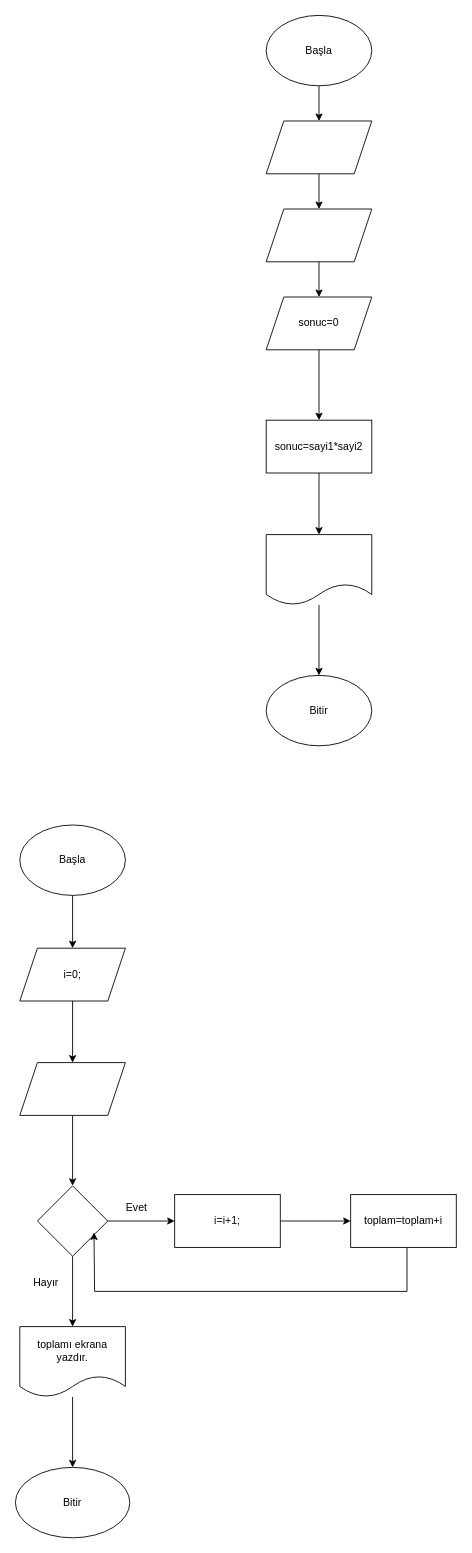
Image size: 472x1553. Some labels were removed from this diagram. Each missing label, with the box of its shape:
i<=10: (37, 1185, 108, 1256)
sayi1 gir: (265, 120, 372, 174)
sayi2 gir: (265, 208, 372, 262)
sonucu ekrana yazdır.: (265, 534, 372, 605)
toplam=0;: (19, 1062, 125, 1115)
